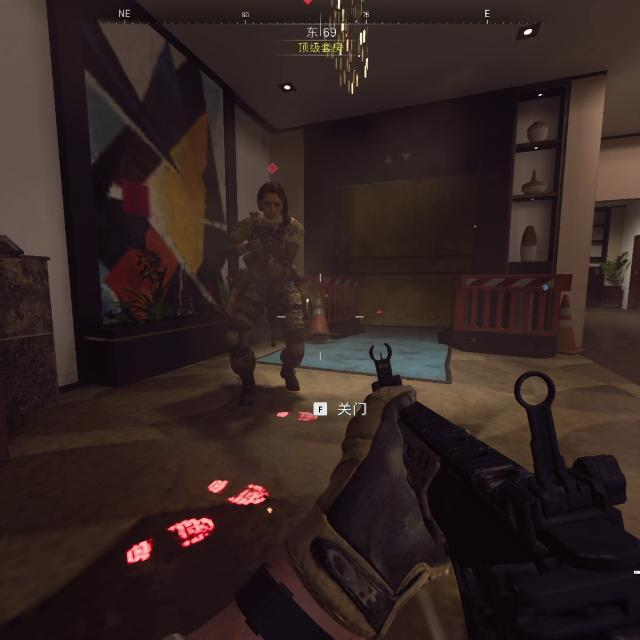MW2_body: (222, 163, 308, 394)
